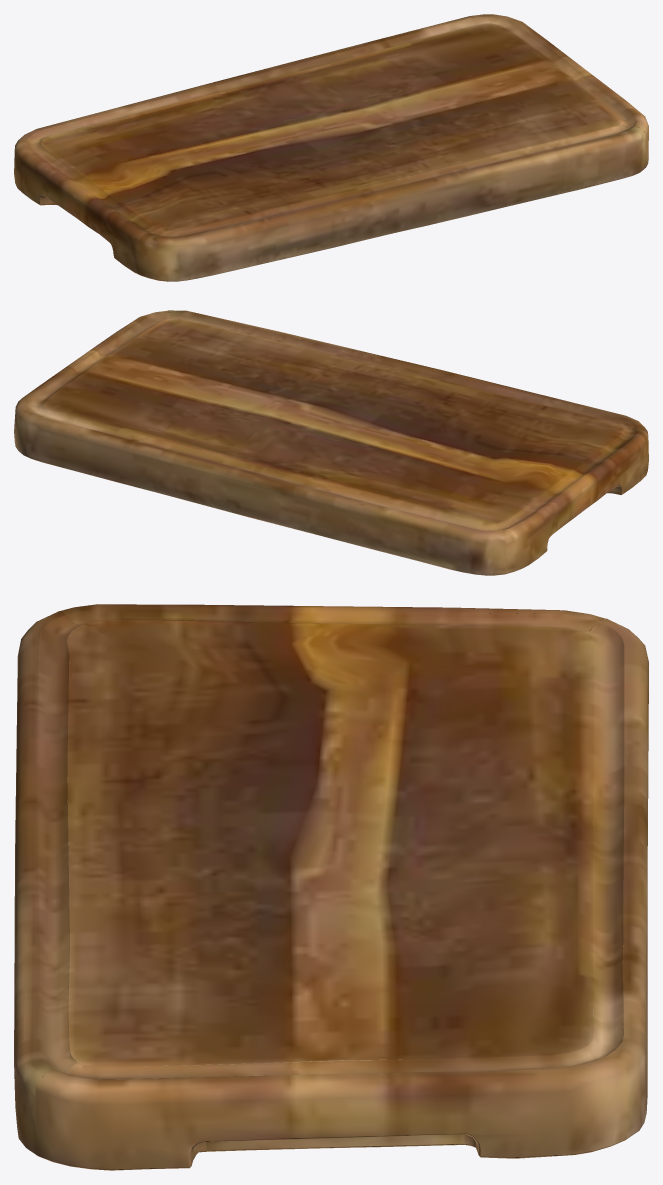
Rendered from cutting-board-lightweight-471f17365f.glb.
The picture shows the model from 3 angles, top to bottom: view 1: azimuth 30°, elevation 25°; view 2: azimuth 150°, elevation 25°; view 3: azimuth 270°, elevation 25°; orthographic projection. The views are drawn at different scales.
Parts seen in each view (by area): view 1: wooden_cutting_board; view 2: wooden_cutting_board; view 3: wooden_cutting_board.
Boxes of the visible parts, x1,y1,x2,y2 form: wooden_cutting_board: (14,14,648,281); wooden_cutting_board: (14,310,648,575); wooden_cutting_board: (14,604,648,1170).
Bounding box in the file's own units: 0.4499 × 0.0412 × 0.2467.
Materials: 1 (1 with a texture image).
